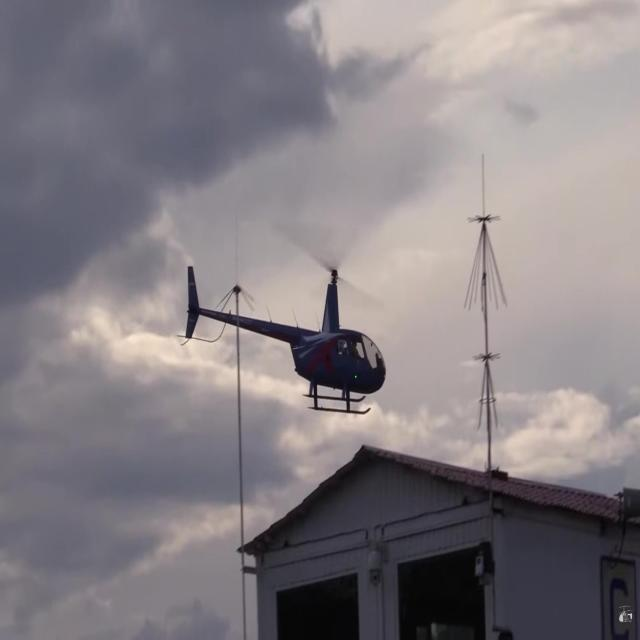CIV_HELO: (185, 264, 388, 417)
